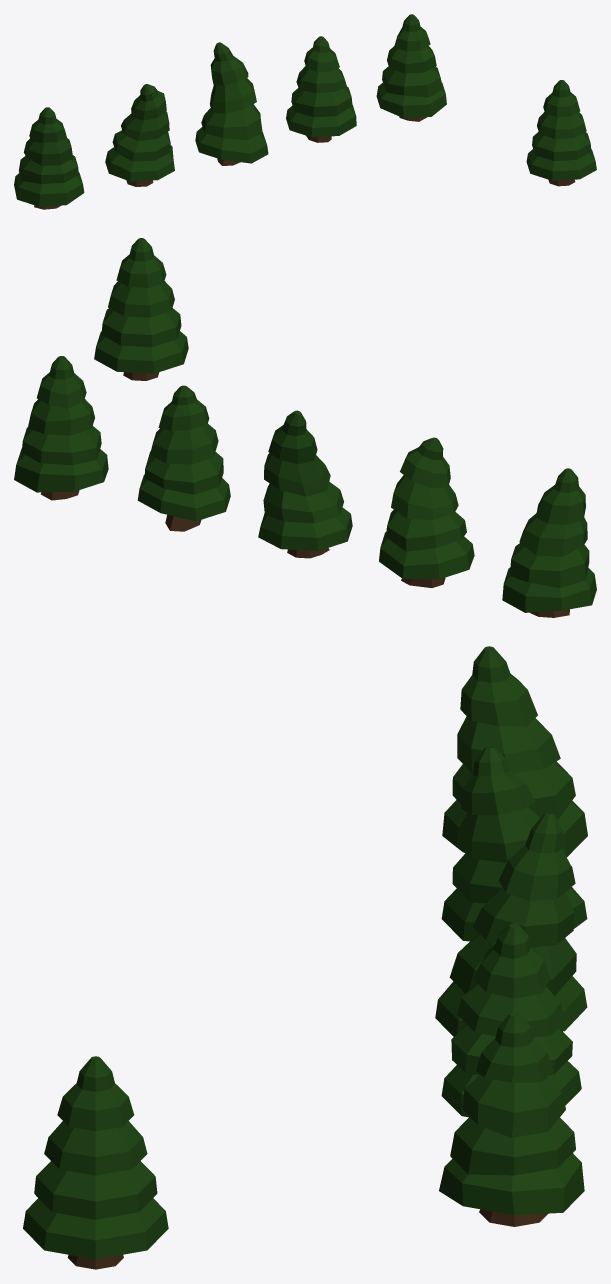
Rendered from Trees.fbx.
3 renders of one model, top to bottom at view 1: azimuth 30°, elevation 25°; view 2: azimuth 150°, elevation 25°; view 3: azimuth 270°, elevation 25°, orthographic. The views are drawn at different scales.
Visible parts, largest first — view 1: Tree.003, Tree.005, Tree.004, Tree.001, Tree.000, Tree.002; view 2: Tree.000, Tree.002, Tree.003, Tree.005, Tree.004, Tree.001; view 3: Tree.005, Tree.001, Tree.003, Tree.002, Tree.004, Tree.000.
Part boxes in pixels (x1=…): Tree.003: x1=195, y1=42, x2=268, y2=165; Tree.005: x1=376, y1=14, x2=446, y2=121; Tree.004: x1=286, y1=36, x2=356, y2=142; Tree.001: x1=526, y1=80, x2=596, y2=186; Tree.000: x1=105, y1=84, x2=174, y2=186; Tree.002: x1=14, y1=107, x2=84, y2=209; Tree.000: x1=379, y1=437, x2=474, y2=587; Tree.002: x1=502, y1=468, x2=596, y2=617; Tree.003: x1=258, y1=410, x2=352, y2=558; Tree.005: x1=14, y1=356, x2=108, y2=500; Tree.004: x1=137, y1=385, x2=230, y2=531; Tree.001: x1=94, y1=238, x2=188, y2=380; Tree.005: x1=439, y1=1012, x2=584, y2=1226; Tree.001: x1=23, y1=1056, x2=168, y2=1269; Tree.003: x1=435, y1=813, x2=587, y2=1036; Tree.002: x1=442, y1=646, x2=587, y2=857; Tree.004: x1=441, y1=923, x2=581, y2=1117; Tree.000: x1=441, y1=746, x2=587, y2=941.
Bounding box in the file's own units: 1040 × 233 × 540.
